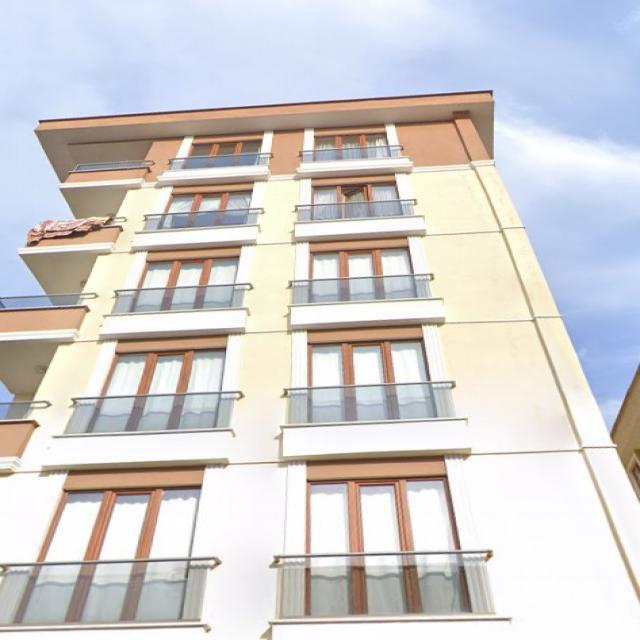Building: (0, 92, 640, 640)
